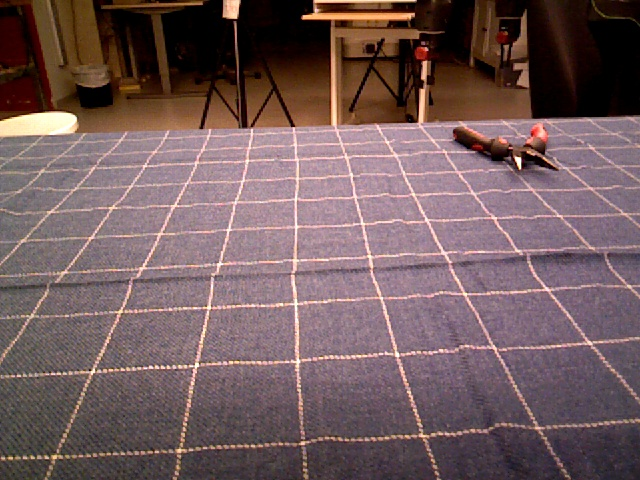plier1: (454, 122, 561, 172)
